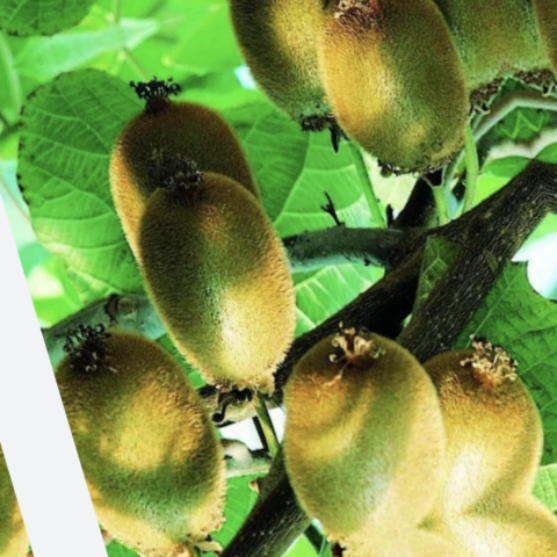kiwi: (3, 272, 268, 557), (96, 137, 345, 430), (219, 310, 474, 557), (287, 0, 505, 199)
